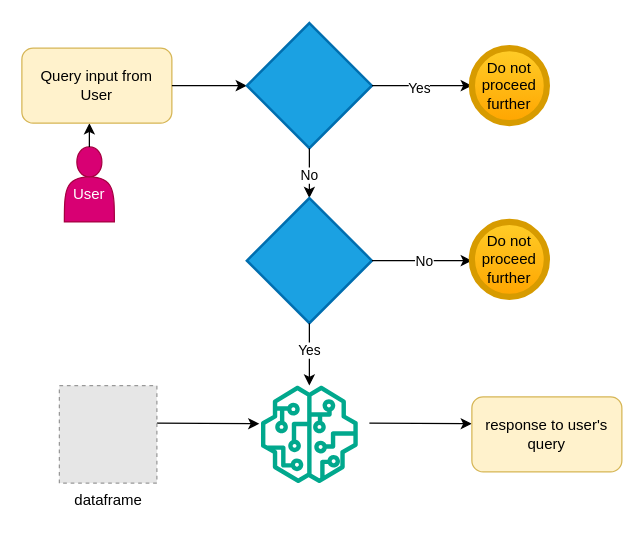
The diagram is 644 pixels wide and 549 high, and some of its shapes have lost their labels. Grey dashed boxes stand in for pictures. The centre of each missing label's shape, as x and y in pixels:
check for malicious intent query: point (308, 85)
check if query is related to dataset: point (308, 260)
create_pandas_dataframe_agent with gpt-4o-mini: point (309, 433)
